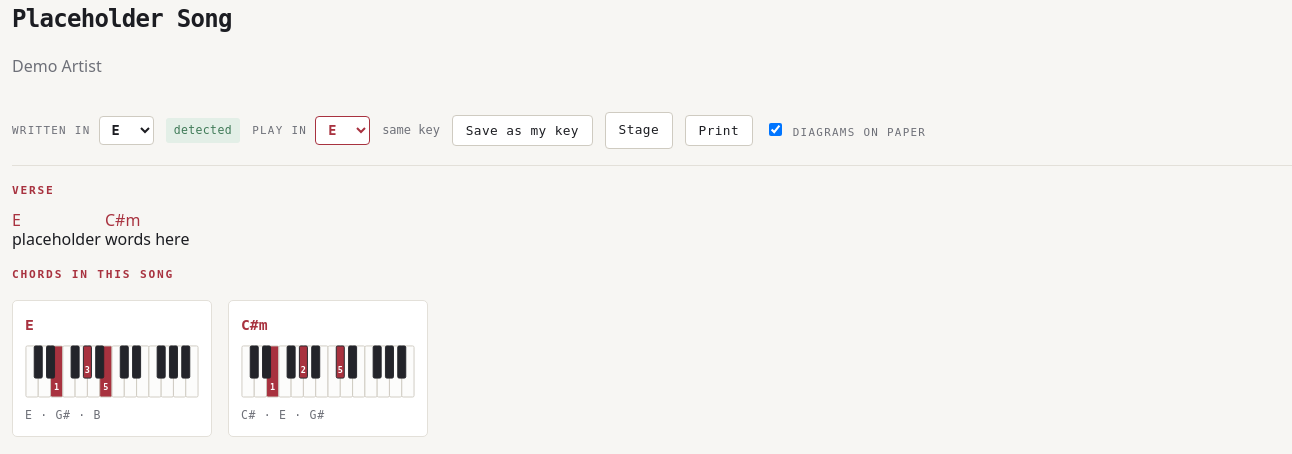
Test: SongPage stage and print › can suppress diagrams on paper
Expected: the heading "Placeholder Song" is shown, [12, 5, 232, 33]
Click the checkbox labelled "Diagrams on paper": point(775, 129) [769, 123, 782, 136]
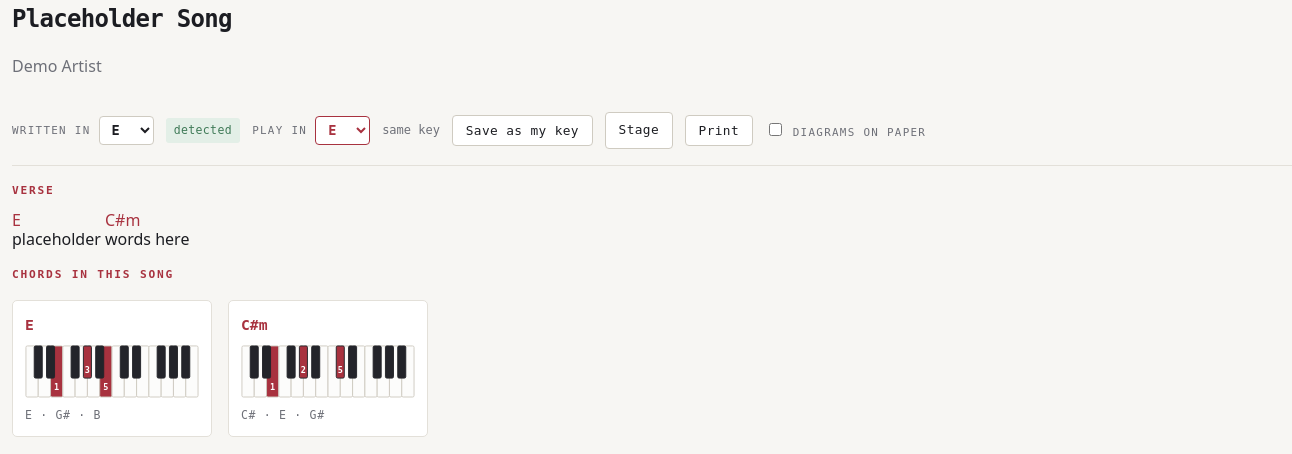
Expected: the element named "153" is shown
